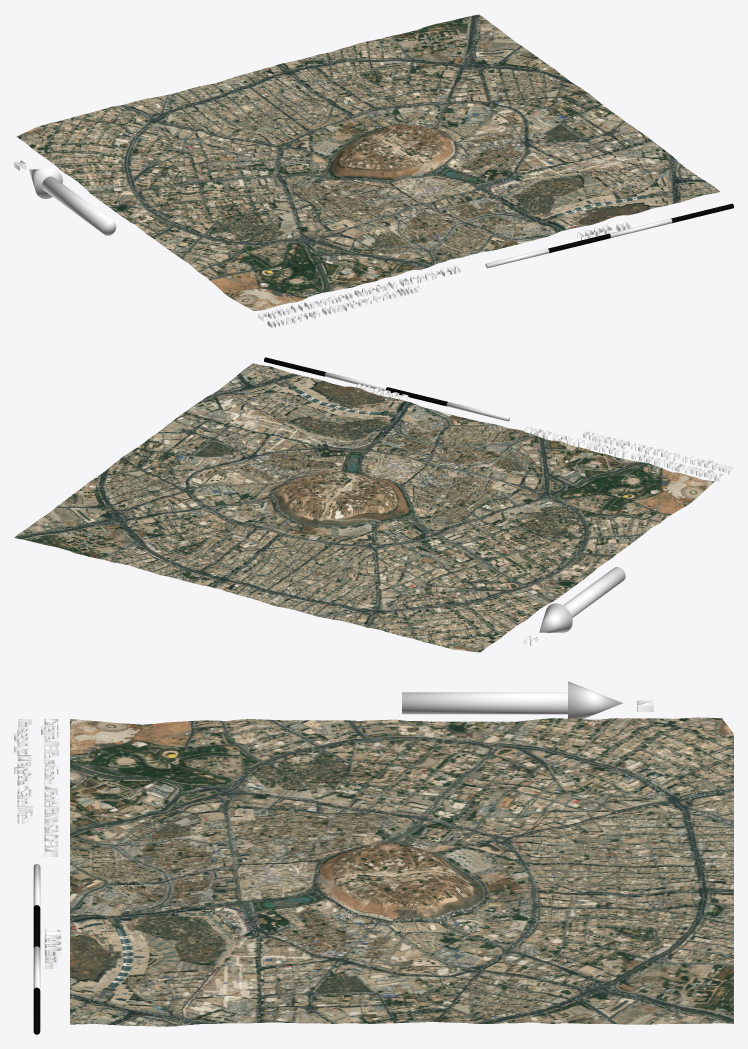
The picture shows the model from 3 angles, top to bottom: view 1: azimuth 30°, elevation 25°; view 2: azimuth 150°, elevation 25°; view 3: azimuth 270°, elevation 25°; orthographic projection. The views are drawn at different scales.
Parts seen in each view (by area): view 1: TerrainNode_0, Adornments_1; view 2: TerrainNode_0, Adornments_1; view 3: TerrainNode_0, Adornments_1.
Part boxes in pixels (<box>): TerrainNode_0: <box>16,14,720,310</box>; Adornments_1: <box>14,160,733,328</box>; TerrainNode_0: <box>14,363,714,652</box>; Adornments_1: <box>264,357,733,645</box>; TerrainNode_0: <box>70,717,733,1026</box>; Adornments_1: <box>14,681,653,1034</box>.
Size of the model in its own units: 2538 by 150 by 2285.
Materials: 2 (1 with a texture image).
